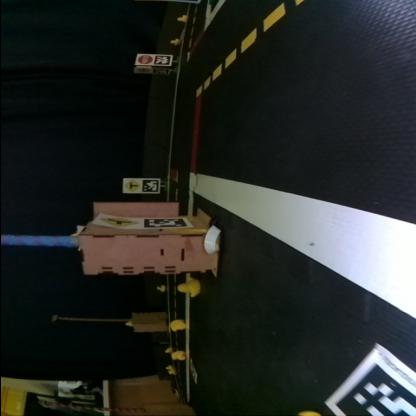Duckie: (176, 278, 198, 296), (167, 319, 183, 330), (170, 350, 184, 360), (170, 38, 178, 44), (176, 14, 184, 20), (156, 285, 164, 291), (166, 370, 174, 375), (124, 322, 130, 327)
Intersection sign: (98, 212, 140, 228), (121, 178, 137, 192), (134, 67, 148, 73)
QR code: (323, 343, 415, 415), (143, 217, 185, 227), (141, 178, 157, 192), (154, 54, 168, 64), (152, 68, 168, 74)
Stop sign: (136, 54, 152, 64)
